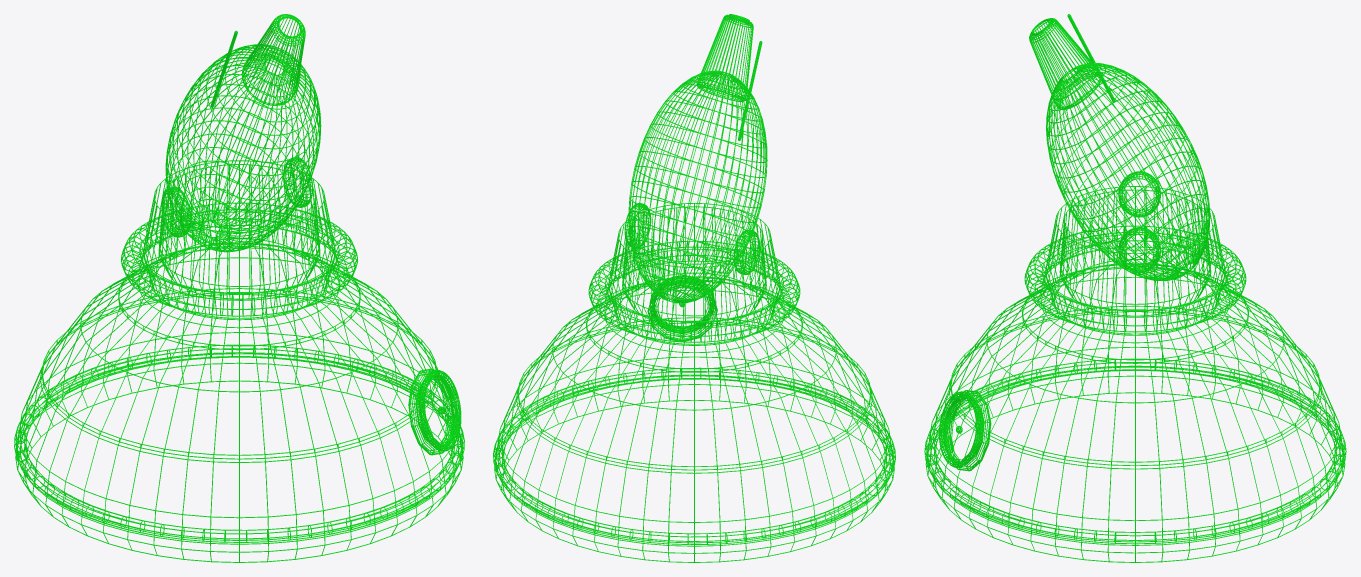
File: photon-turret-wireframe.glb
3 views of the same model, side by side, from view 1: azimuth 30°, elevation 25°; view 2: azimuth 150°, elevation 25°; view 3: azimuth 270°, elevation 25° (orthographic). The views are drawn at different scales.
Parts seen in each view (by area): view 1: elastoplastic-fixed-base technical wire, strengthened-photon-barrel technical wire, chassis technical wire; view 2: elastoplastic-fixed-base technical wire, strengthened-photon-barrel technical wire, chassis technical wire; view 3: elastoplastic-fixed-base technical wire, strengthened-photon-barrel technical wire, chassis technical wire.
Part boxes in pixels (x1=…): elastoplastic-fixed-base technical wire: x1=14, y1=202, x2=464, y2=562; strengthened-photon-barrel technical wire: x1=161, y1=14, x2=321, y2=252; chassis technical wire: x1=143, y1=160, x2=335, y2=320; elastoplastic-fixed-base technical wire: x1=493, y1=241, x2=895, y2=562; strengthened-photon-barrel technical wire: x1=624, y1=14, x2=767, y2=303; chassis technical wire: x1=608, y1=203, x2=780, y2=345; elastoplastic-fixed-base technical wire: x1=924, y1=225, x2=1346, y2=562; strengthened-photon-barrel technical wire: x1=1029, y1=14, x2=1210, y2=281; chassis technical wire: x1=1045, y1=186, x2=1225, y2=335.
Size of the model in its own units: 2.02 by 2.41 by 2.02.
